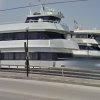Boat: (3, 7, 93, 75)
